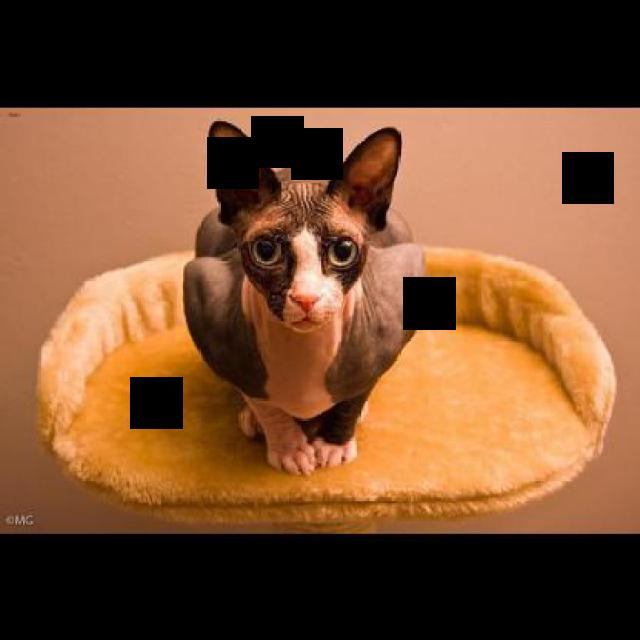unauthorized: (182, 117, 426, 475)
